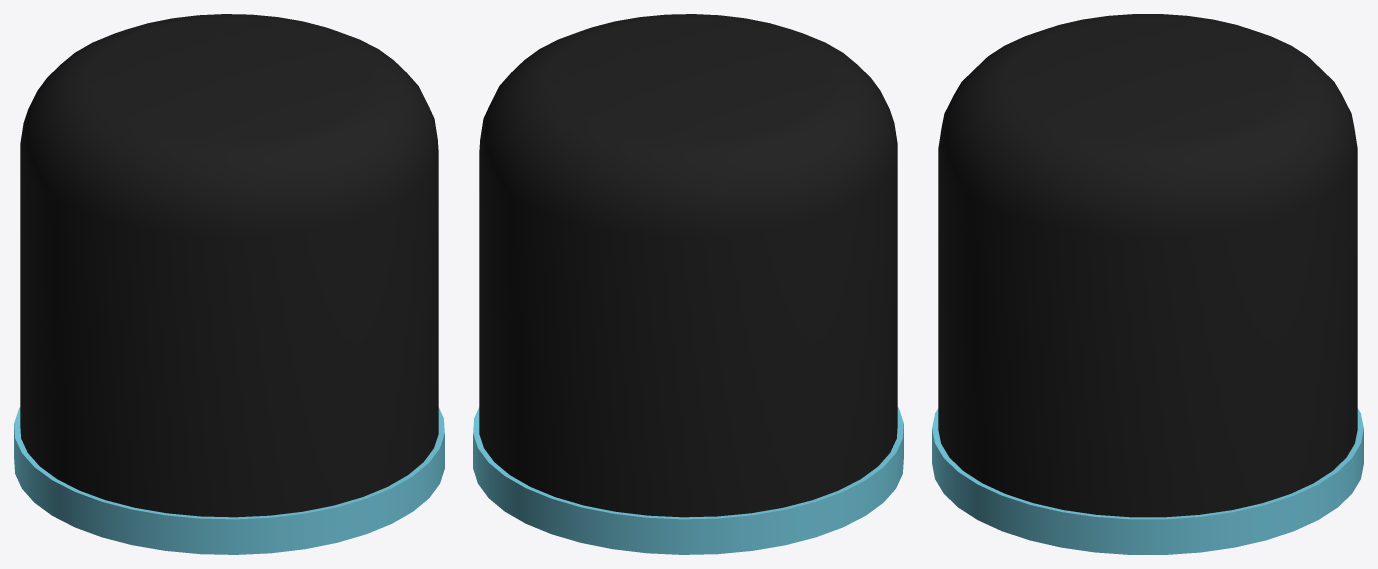
File: pouf.fbx
3 renders of one model, left to right at view 1: azimuth 30°, elevation 25°; view 2: azimuth 150°, elevation 25°; view 3: azimuth 270°, elevation 25°, orthographic.
Visible parts, largest first — view 1: Pouf; view 2: Pouf; view 3: Pouf.
Boxes of the visible parts, x1,y1,x2,y2 form: Pouf: (14, 14, 444, 554); Pouf: (473, 14, 903, 554); Pouf: (932, 14, 1363, 554).
Bounding box in the file's own units: 40.51 × 40.17 × 40.65.
